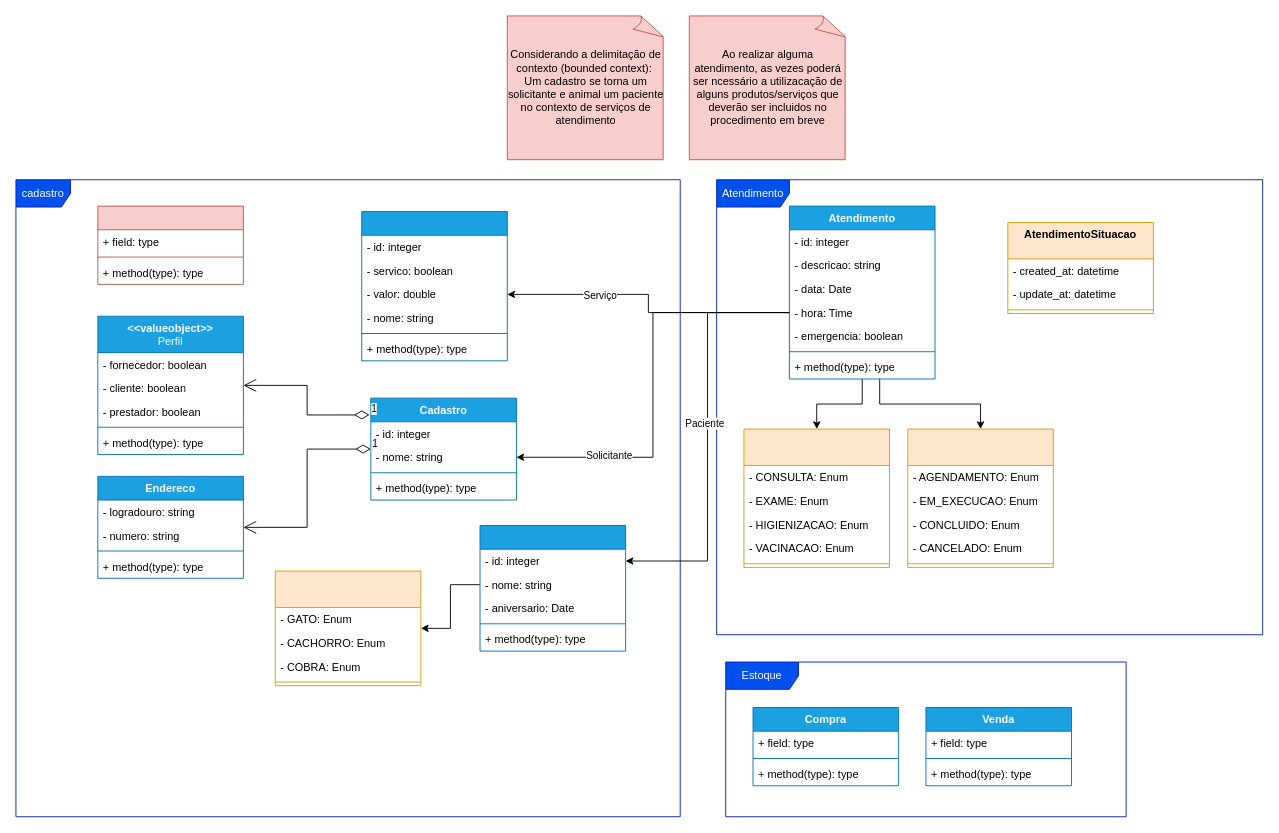
Image size: 1279x833. Some labels were removed from this diagram. The shapes that lost their labels are listed below. From the top down, each one's box as (x1, y1, x2, y2) in pixels, then its label:
(97, 205, 243, 284): Empresa
(361, 211, 507, 361): ProdutoServiço
(743, 428, 890, 567): <<enum>> AtendimentoTipo
(907, 428, 1053, 567): <<enum>> AtendimentoStatus
(479, 525, 626, 651): Animal
(274, 570, 421, 686): <<enum>> Especie
